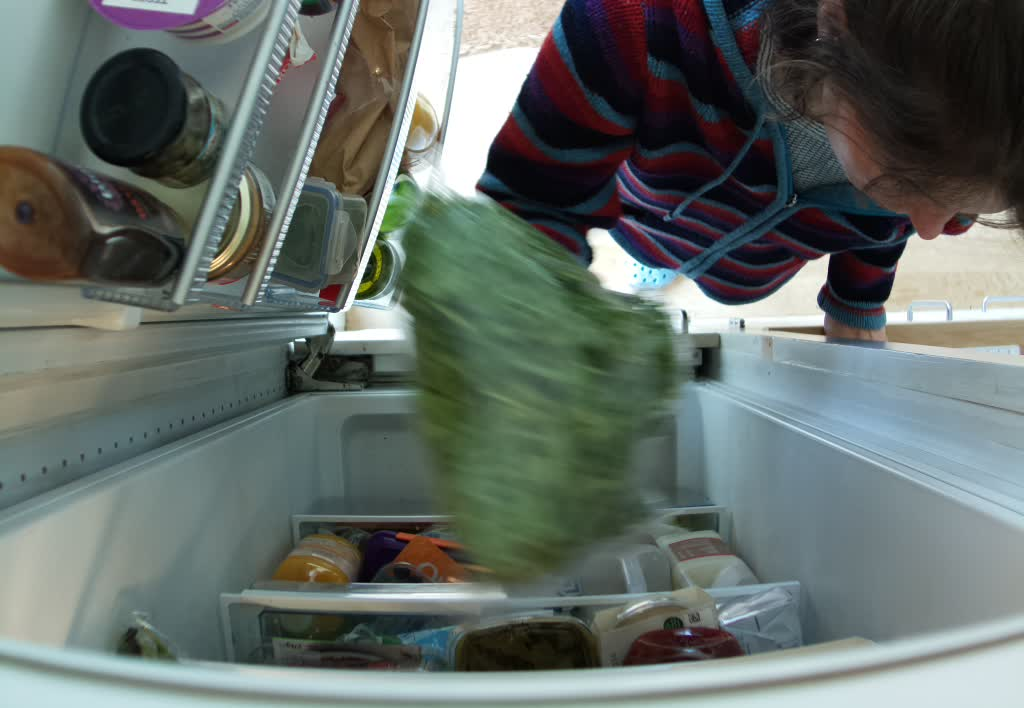salad: (391, 187, 666, 589)
